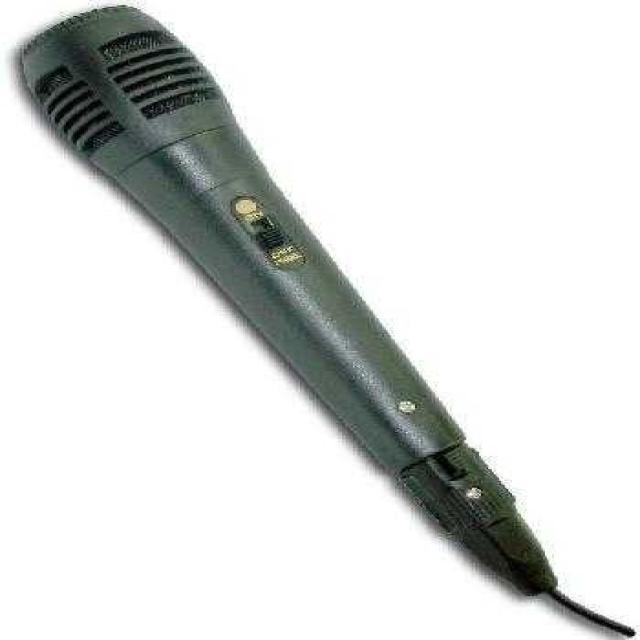microphone: (11, 8, 618, 634)
